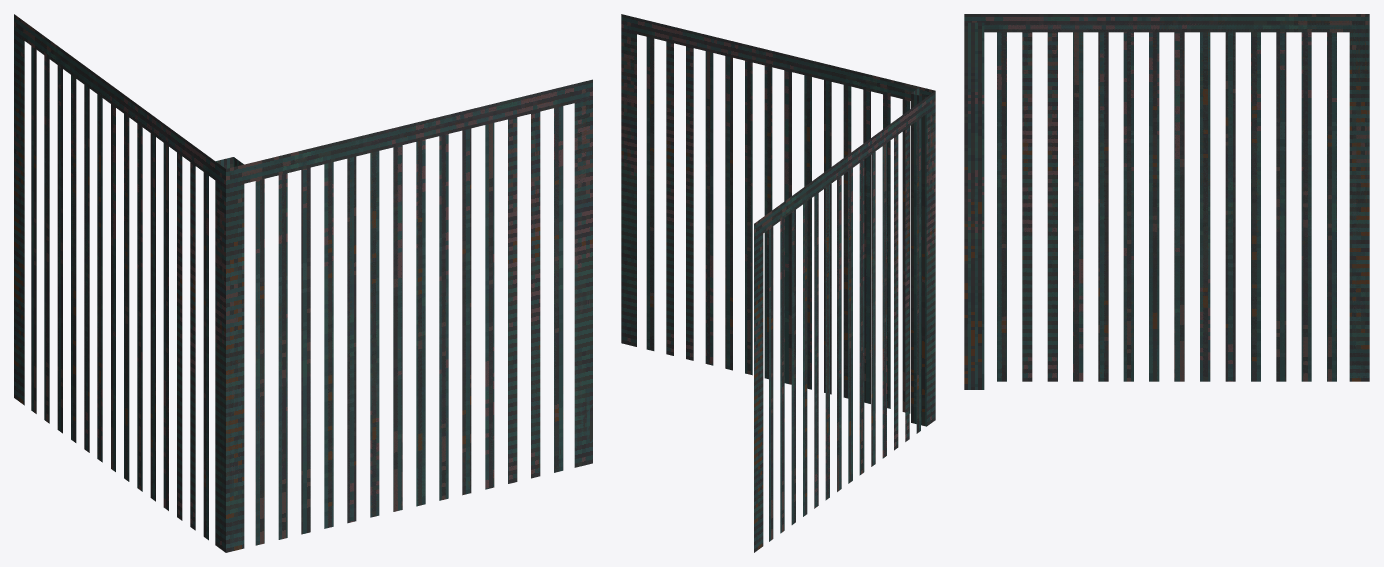
The model's file is BarsCorner.glb.
3 renders of one model, left to right at view 1: azimuth 30°, elevation 25°; view 2: azimuth 150°, elevation 25°; view 3: azimuth 270°, elevation 25°, orthographic. The views are drawn at different scales.
Parts seen in each view (by area): view 1: BarsCorner; view 2: BarsCorner; view 3: BarsCorner.
Part boxes in pixels (x1=…): BarsCorner: x1=14, y1=14, x2=592, y2=552; BarsCorner: x1=621, y1=14, x2=935, y2=552; BarsCorner: x1=964, y1=14, x2=1369, y2=389.
Bounding box in the file's own units: 4 × 4 × 4.
Materials: 1 (1 with a texture image).
